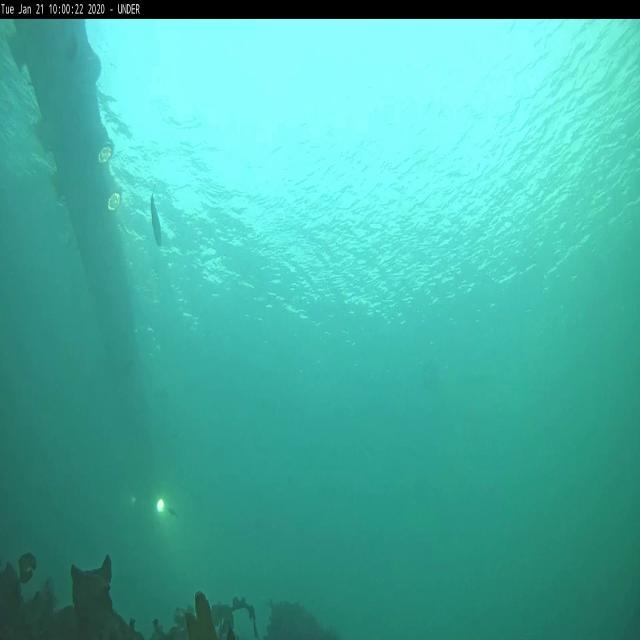fish: (149, 180, 163, 250)
